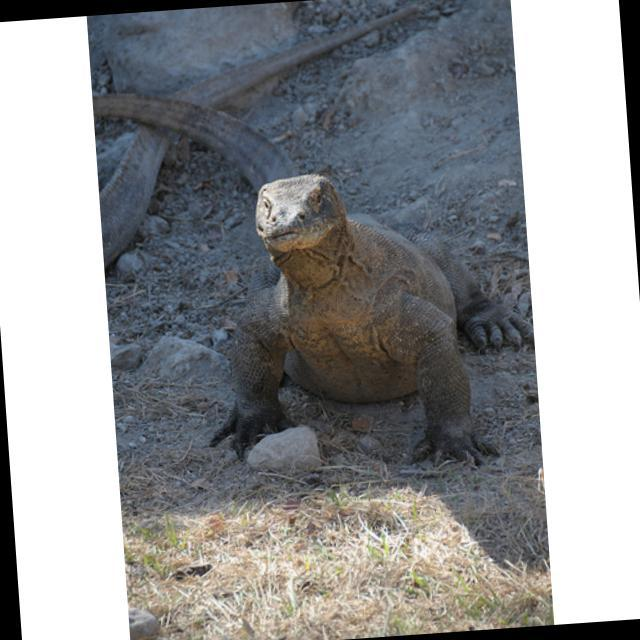KomodoDragon: (92, 57, 541, 503)
